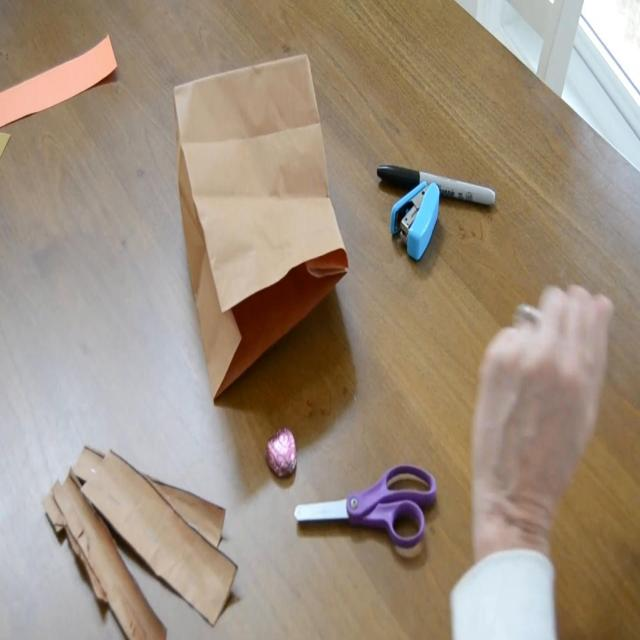scissor: (295, 464, 436, 549)
